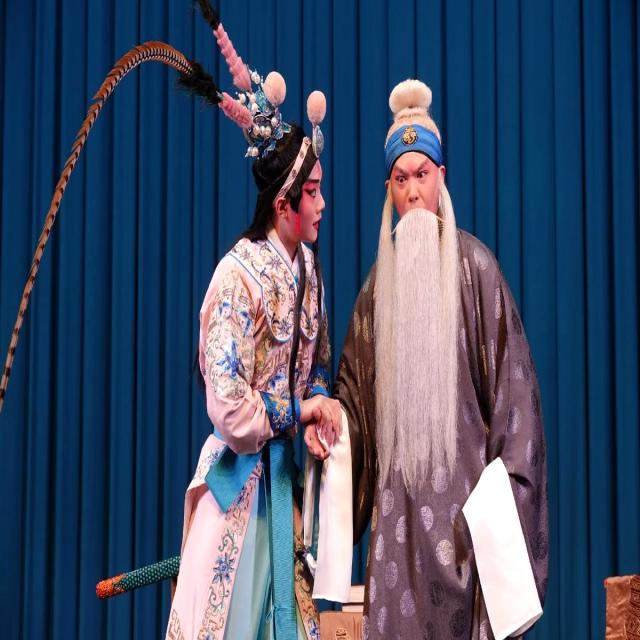Reeves-s Pheasant: (0, 41, 221, 410), (197, 0, 219, 29)
